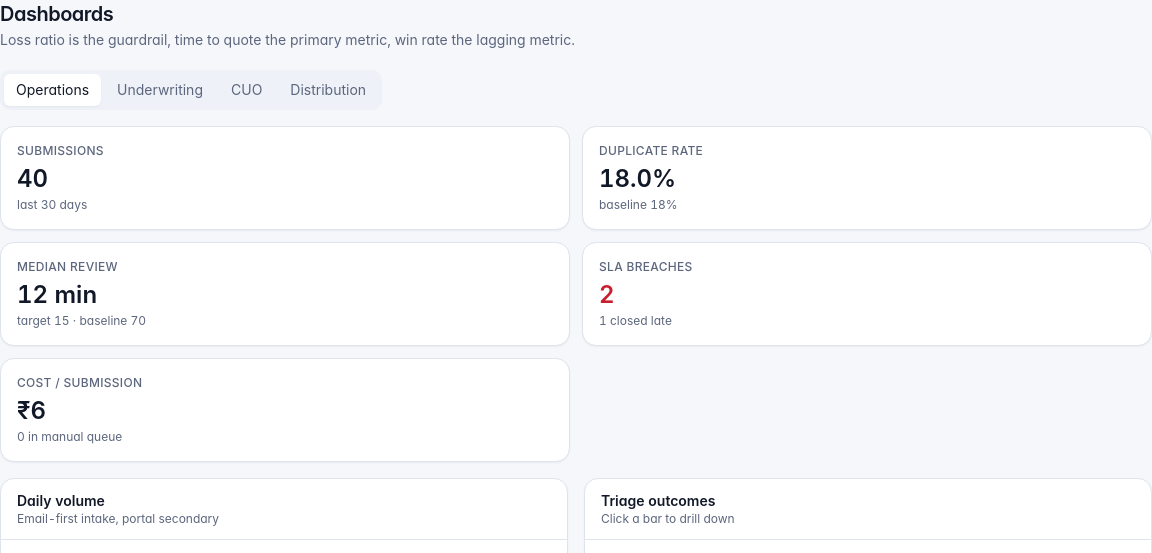
other pages › dashboards render for CUO
This screenshot has width=1152, height=553.
Expected: the text "Submissions" is shown, [17,143,104,158]
Click the tab "Underwriting" at coordinates (160, 90), box [105,74,215,106]
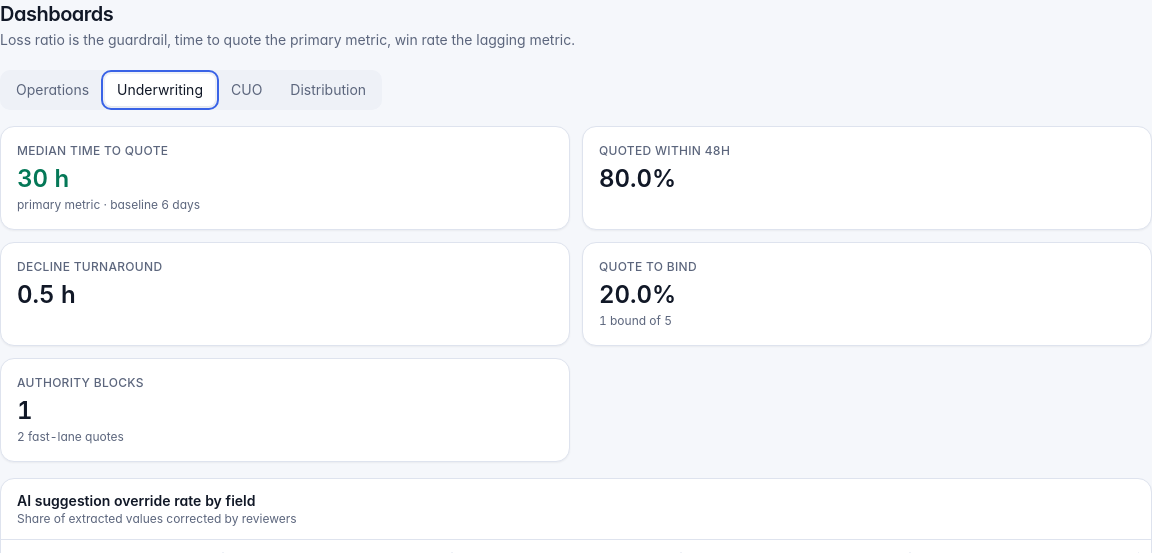
Expected: the text "30 h" is shown, [17,164,69,193]
Click the tab "CUO" at coordinates (247, 90), box [219,74,274,106]
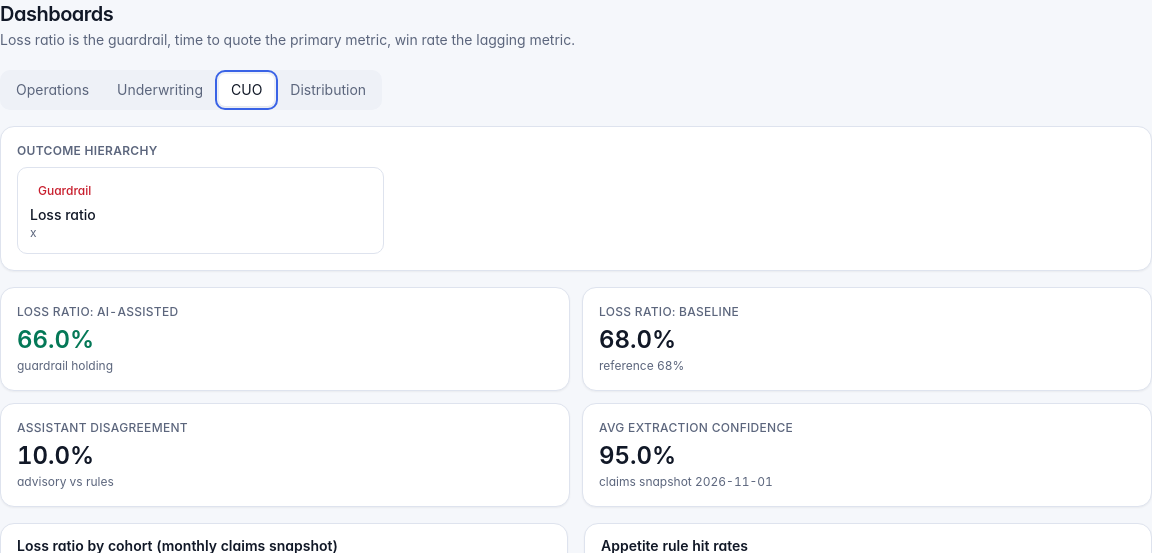
Expected: the text "guardrail holding" is shown, [17,358,113,373]
Click the tab "Distribution" at coordinates (328, 90), box [278,74,378,106]
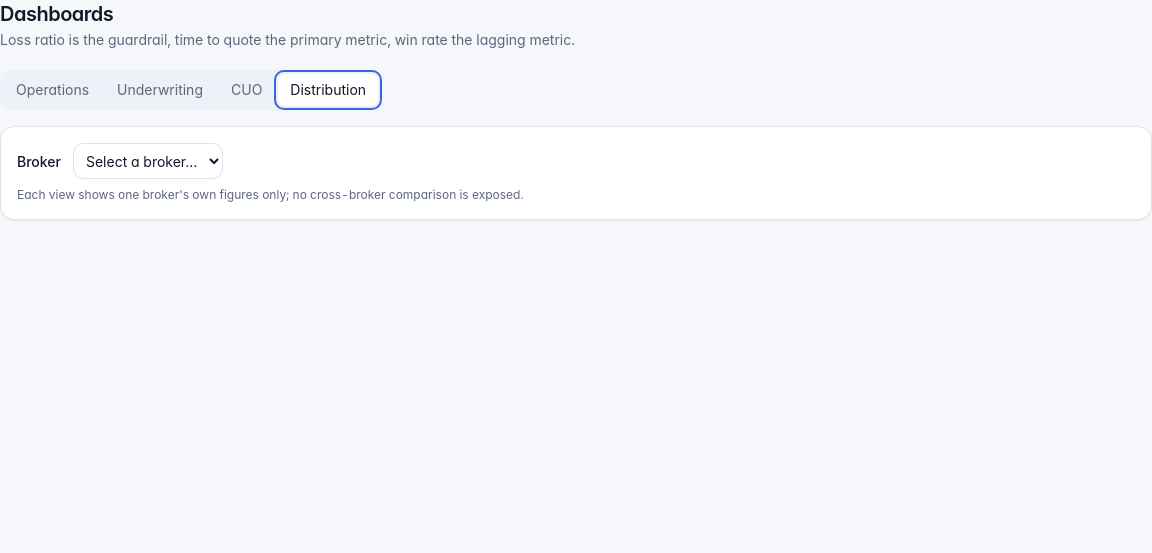
Select "Meridian" in the dropdown labelled "Broker" at coordinates (148, 161), box [73,143,223,179]
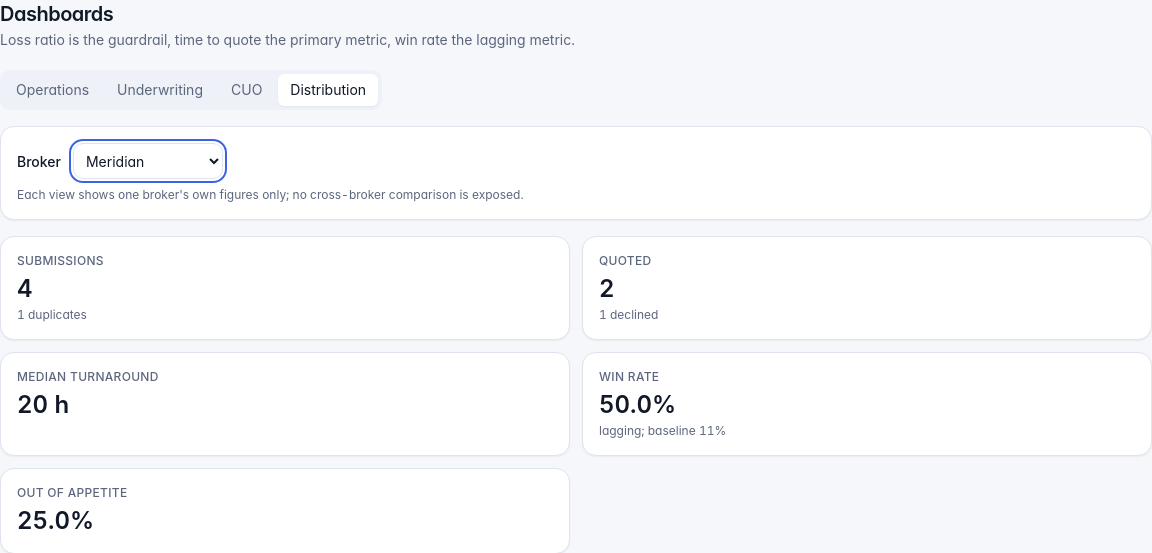
Expected: the text "50.0%" is shown, [599,390,676,419]
